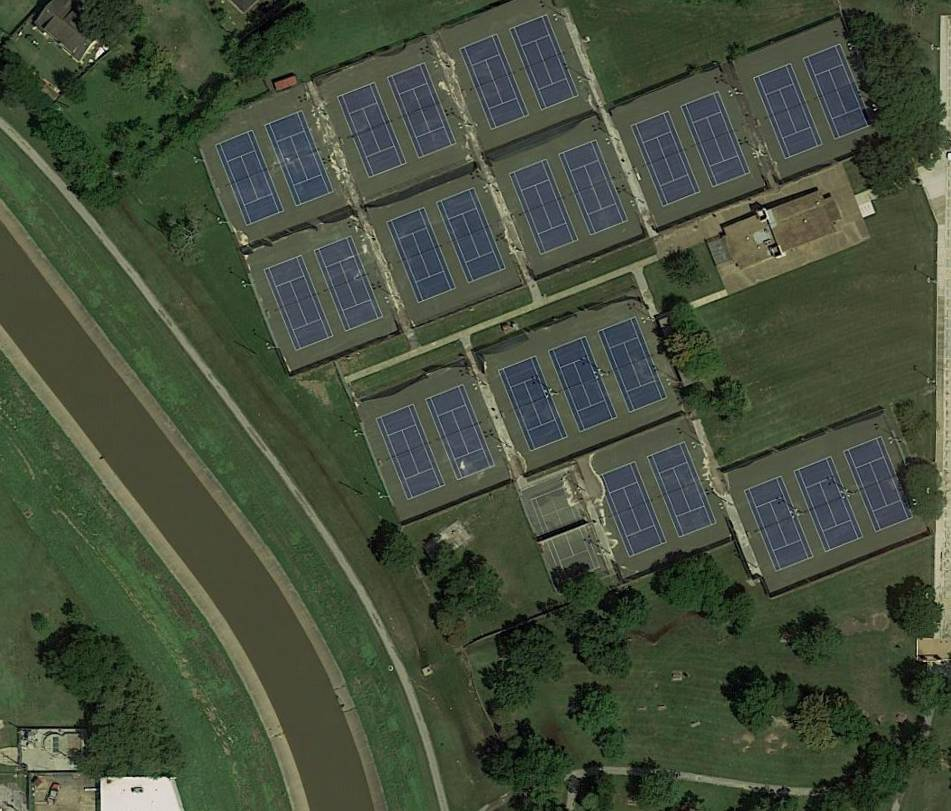tennis court: (422, 382, 498, 483), (434, 185, 509, 287), (841, 434, 916, 535), (457, 32, 532, 133), (384, 205, 458, 307), (596, 314, 670, 416), (556, 138, 631, 238), (507, 12, 581, 113), (679, 89, 753, 190), (645, 439, 719, 540), (751, 62, 826, 161), (262, 108, 336, 208), (312, 234, 386, 334), (385, 61, 459, 161), (546, 334, 620, 434), (373, 404, 448, 502), (628, 110, 703, 208), (262, 254, 336, 353), (335, 81, 409, 180), (496, 355, 570, 454), (801, 42, 875, 141), (508, 158, 581, 258), (596, 460, 669, 560), (529, 484, 602, 584), (742, 474, 815, 574), (792, 455, 865, 554), (213, 129, 286, 228)
